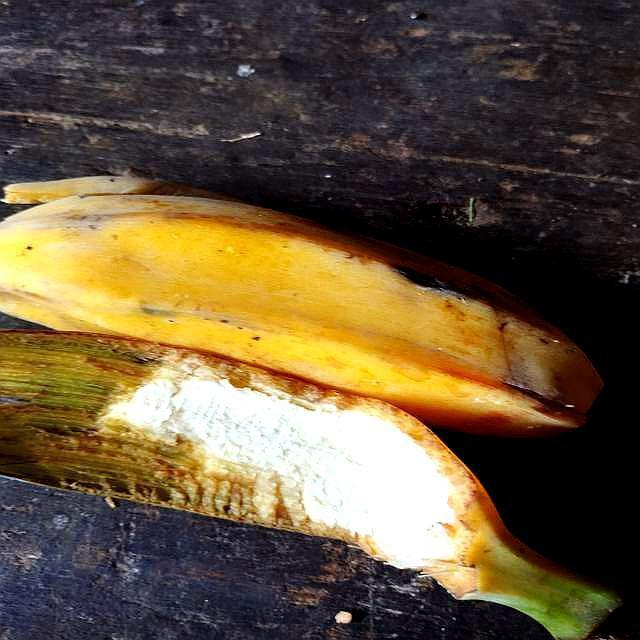Biodegradable: (1, 183, 585, 603)
